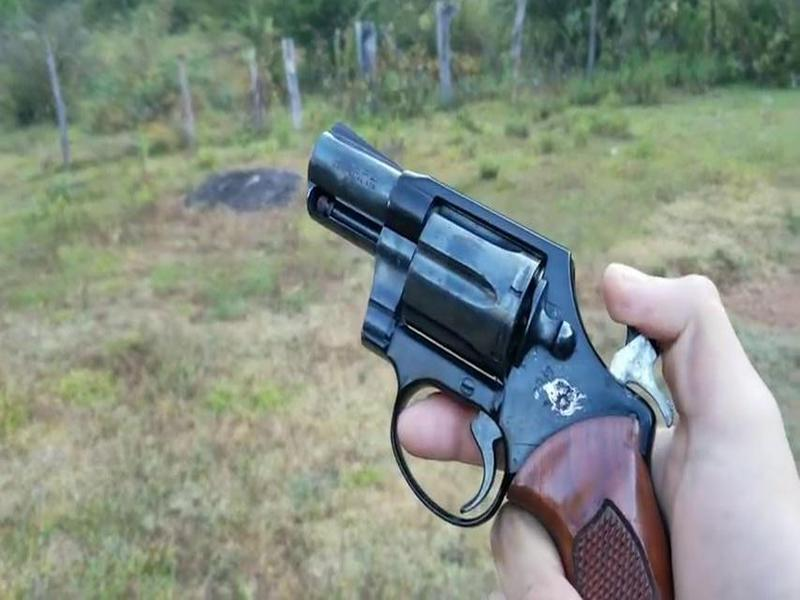Revolver: (258, 94, 670, 567)
